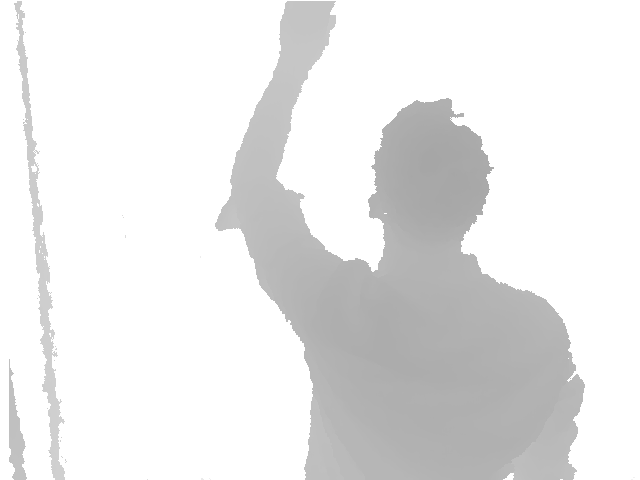hand: (279, 1, 336, 62)
head: (367, 97, 494, 250)
person: (215, 2, 587, 480)
